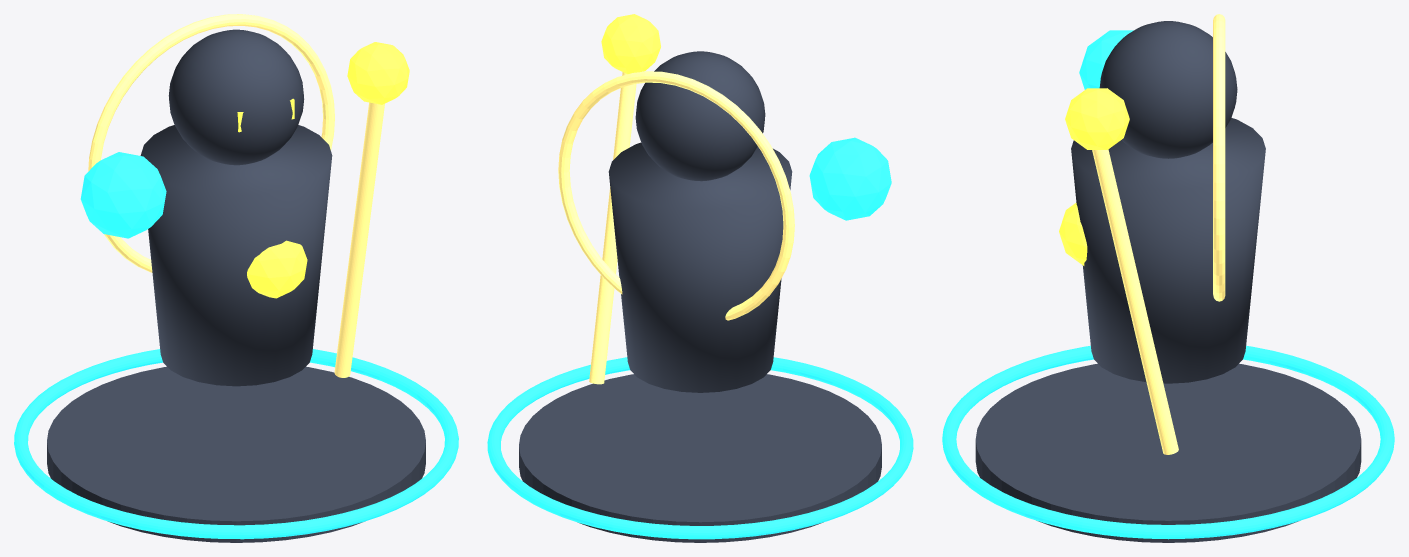
File: chronos.glb
The picture shows the model from 3 angles, left to right: view 1: azimuth 30°, elevation 25°; view 2: azimuth 150°, elevation 25°; view 3: azimuth 270°, elevation 25°; orthographic projection. The views are drawn at different scales.
Visible parts, largest first — view 1: AbilityPedestal, AgentTorso, AgentHead, AbilityAuraRing, Pet_CHRONOS, SovereignHalo, SignatureWeapon, WeaponApex, AgentCore; view 2: AbilityPedestal, AgentTorso, AgentHead, AbilityAuraRing, SovereignHalo, Pet_CHRONOS, SignatureWeapon, WeaponApex; view 3: AbilityPedestal, AgentTorso, AgentHead, AbilityAuraRing, SignatureWeapon, SovereignHalo, WeaponApex, Pet_CHRONOS, AgentCore.
Part boxes in pixels (x1,y1,x2,y2): AbilityPedestal: [47, 366, 425, 542]; AgentTorso: [140, 125, 332, 386]; AgentHead: [168, 29, 304, 165]; AbilityAuraRing: [14, 349, 458, 539]; Pet_CHRONOS: [80, 152, 166, 238]; SovereignHalo: [88, 14, 334, 272]; SignatureWeapon: [334, 102, 384, 377]; WeaponApex: [347, 42, 409, 104]; AgentCore: [247, 240, 307, 298]; AbilityPedestal: [519, 374, 881, 542]; AgentTorso: [608, 142, 792, 392]; AgentHead: [635, 51, 765, 181]; AbilityAuraRing: [487, 357, 913, 539]; SovereignHalo: [558, 71, 794, 320]; Pet_CHRONOS: [809, 137, 891, 220]; SignatureWeapon: [589, 72, 636, 384]; WeaponApex: [601, 14, 660, 74]; AbilityPedestal: [975, 363, 1361, 542]; AgentTorso: [1071, 118, 1265, 383]; AgentHead: [1099, 21, 1237, 158]; AbilityAuraRing: [942, 345, 1394, 539]; SignatureWeapon: [1092, 149, 1178, 454]; SovereignHalo: [1213, 14, 1225, 301]; WeaponApex: [1065, 88, 1129, 149]; Pet_CHRONOS: [1079, 30, 1133, 89]; AgentCore: [1059, 203, 1087, 265].
Size of the model in its own units: 2.23 by 2.36 by 2.23.
